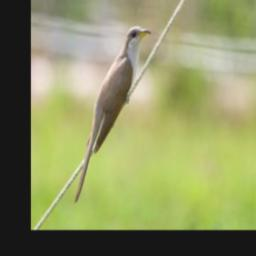Cuckoo: (72, 25, 153, 208)
